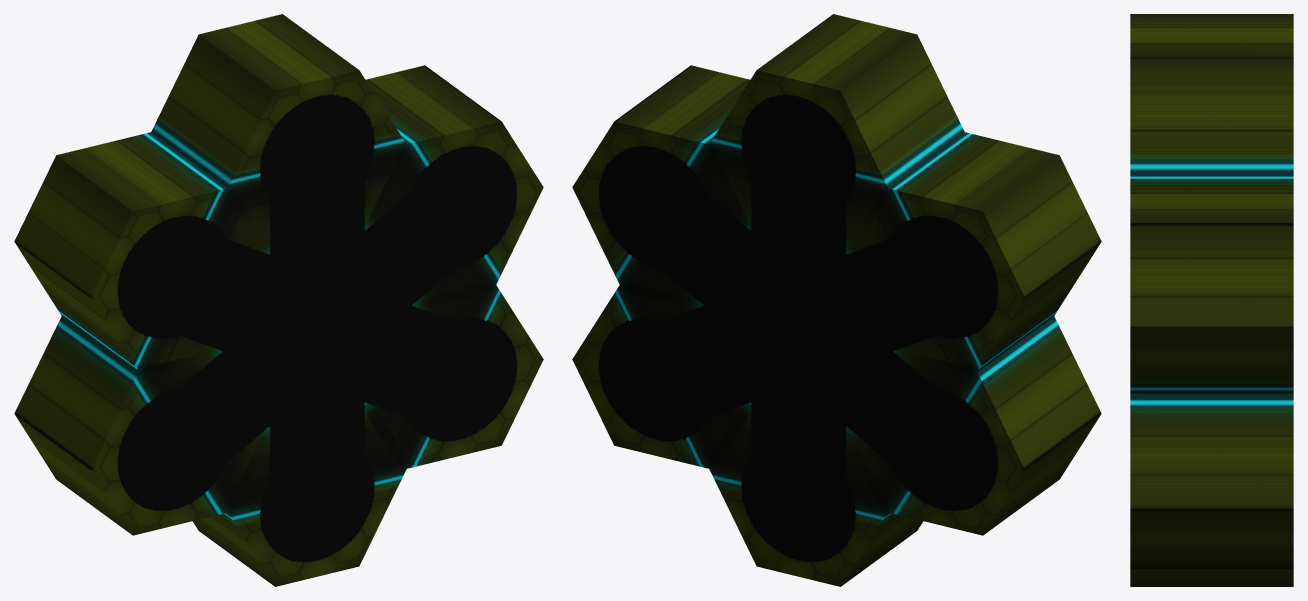
File: power_col.fbx
3 views of the same model, side by side, from view 1: azimuth 30°, elevation 25°; view 2: azimuth 150°, elevation 25°; view 3: azimuth 270°, elevation 25° (orthographic). The views are drawn at different scales.
Visible parts, largest first — view 1: Circle.033; view 2: Circle.033; view 3: Circle.033.
Boxes of the visible parts, <box> form: Circle.033: <box>14,14,543,586</box>; Circle.033: <box>572,14,1101,586</box>; Circle.033: <box>1130,14,1293,586</box>.
Bounding box in the file's own units: 4.77 × 5 × 1.4.
